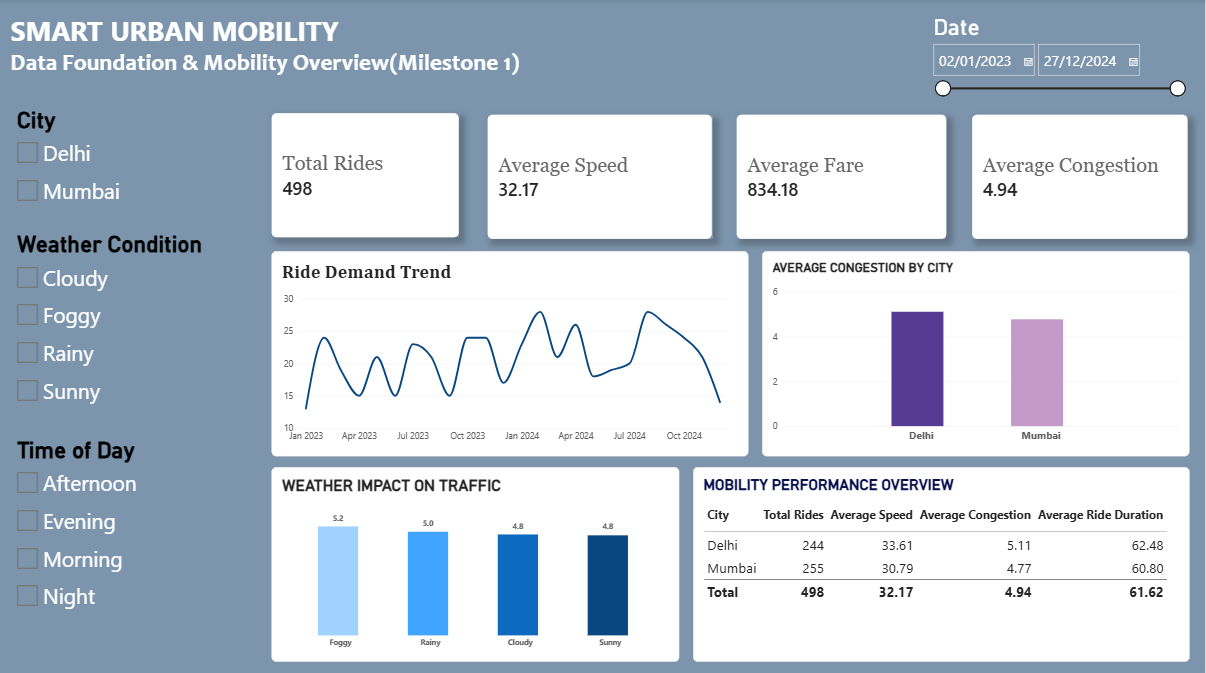

What the dashboard file says about the page in this screenshot:
{"tool":"powerbi","page":{"name":"M1 - DATA FOUNDATION","canvas":[1920,1080],"ordinal":0},"visuals":[{"type":"textbox","box":[21.5,21.5,985.4,298.2],"z":0},{"type":"cardVisual","fields":{"Data":["ride_safety_dataset.Total Rides"]},"box":[436.6,181.3,298.2,198],"z":1000},{"type":"cardVisual","fields":{"Data":["ride_safety_dataset.Average Speed"]},"box":[780.2,183.7,357.9,198],"z":2000},{"type":"cardVisual","fields":{"Data":["ride_safety_dataset.Average Fare"]},"box":[1176.3,183.7,334,198],"z":3000},{"type":"cardVisual","fields":{"Data":["ride_safety_dataset.Average Congestion"]},"box":[1550.8,183.7,343.6,198],"z":4000},{"type":"slicer","fields":{"Values":["DimLocation.City"]},"box":[23.9,171.8,412.8,357.9],"z":5000},{"type":"slicer","fields":{"Values":["DimWeather.Weather_Condition"]},"box":[23.9,369.8,412.8,357.9],"z":6000},{"type":"slicer","fields":{"Values":["DimTime.Time_of_Day"]},"box":[23.9,696.7,346,357.9],"z":7000},{"type":"slicer","fields":{"Values":["DimDate.Date"]},"box":[1481.7,23.9,412.8,357.9],"z":8000},{"type":"lineChart","title":"Ride Demand Trend","fields":{"Category":["DimDate.Date.Variation.Date Hierarchy.Year","DimDate.Date.Variation.Date Hierarchy.Month"],"Y":["ride_safety_dataset.Ride Demand"]},"box":[436.6,400.8,758.7,326.9],"z":9000},{"type":"clusteredColumnChart","title":"AVERAGE CONGESTION BY CITY","fields":{"Category":["DimLocation.City"],"Y":["ride_safety_dataset.Average Congestion"]},"box":[1216.8,400.8,680,326.9],"z":10000},{"type":"columnChart","title":"WEATHER IMPACT ON TRAFFIC","fields":{"Category":["DimWeather.Weather_Condition"],"Y":["ride_safety_dataset.Average Congestion"]},"box":[436.6,744.4,649,310.2],"z":11000},{"type":"tableEx","title":"MOBILITY PERFORMANCE OVERVIEW","fields":{"Values":["DimLocation.City","ride_safety_dataset.Total Rides","ride_safety_dataset.Average Speed","ride_safety_dataset.Average Congestion","ride_safety_dataset.Average Ride Duration"]},"box":[1107.1,744.4,789.7,310.2],"z":11001}]}

Visuals, with their boxes in screenshot pixels (x1, y1, x2, y2), scaled from the page's 1920x1080 canvas onto the 1206x673 screenshot:
textbox: 14 13 632 199
cardVisual - ride_safety_dataset.Total Rides: 274 113 462 236
cardVisual - ride_safety_dataset.Average Speed: 490 114 715 238
cardVisual - ride_safety_dataset.Average Fare: 739 114 949 238
cardVisual - ride_safety_dataset.Average Congestion: 974 114 1190 238
slicer - DimLocation.City: 15 107 274 330
slicer - DimWeather.Weather_Condition: 15 230 274 453
slicer - DimTime.Time_of_Day: 15 434 232 657
slicer - DimDate.Date: 931 15 1190 238
"Ride Demand Trend" lineChart: 274 250 751 453
"AVERAGE CONGESTION BY CITY" clusteredColumnChart: 764 250 1191 453
"WEATHER IMPACT ON TRAFFIC" columnChart: 274 464 682 657
"MOBILITY PERFORMANCE OVERVIEW" tableEx: 695 464 1191 657
